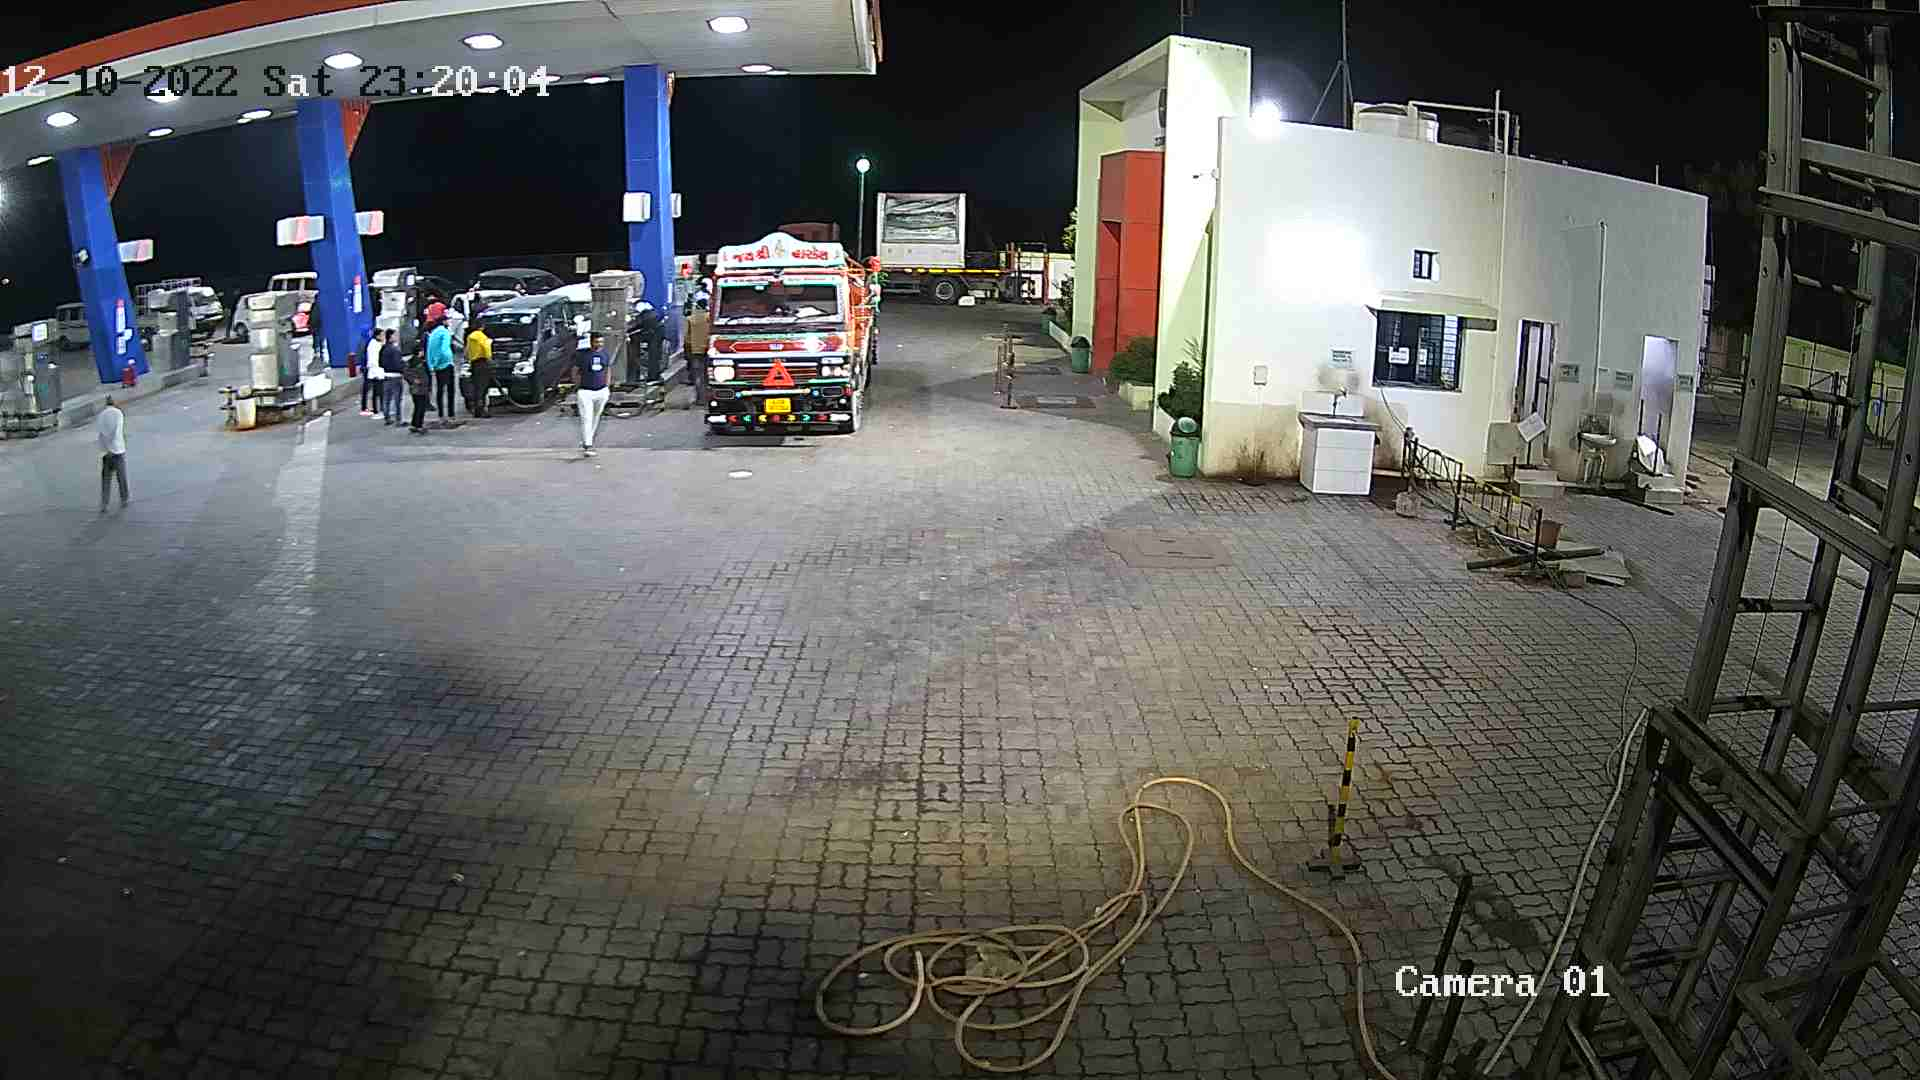Car: (439, 281, 588, 422), (430, 280, 534, 361), (219, 284, 320, 345), (541, 273, 603, 371), (257, 262, 327, 339), (467, 258, 578, 306), (405, 266, 473, 340), (40, 287, 95, 360), (361, 273, 392, 338)
HMV: (682, 222, 889, 450), (754, 179, 1044, 307), (121, 266, 237, 353)
